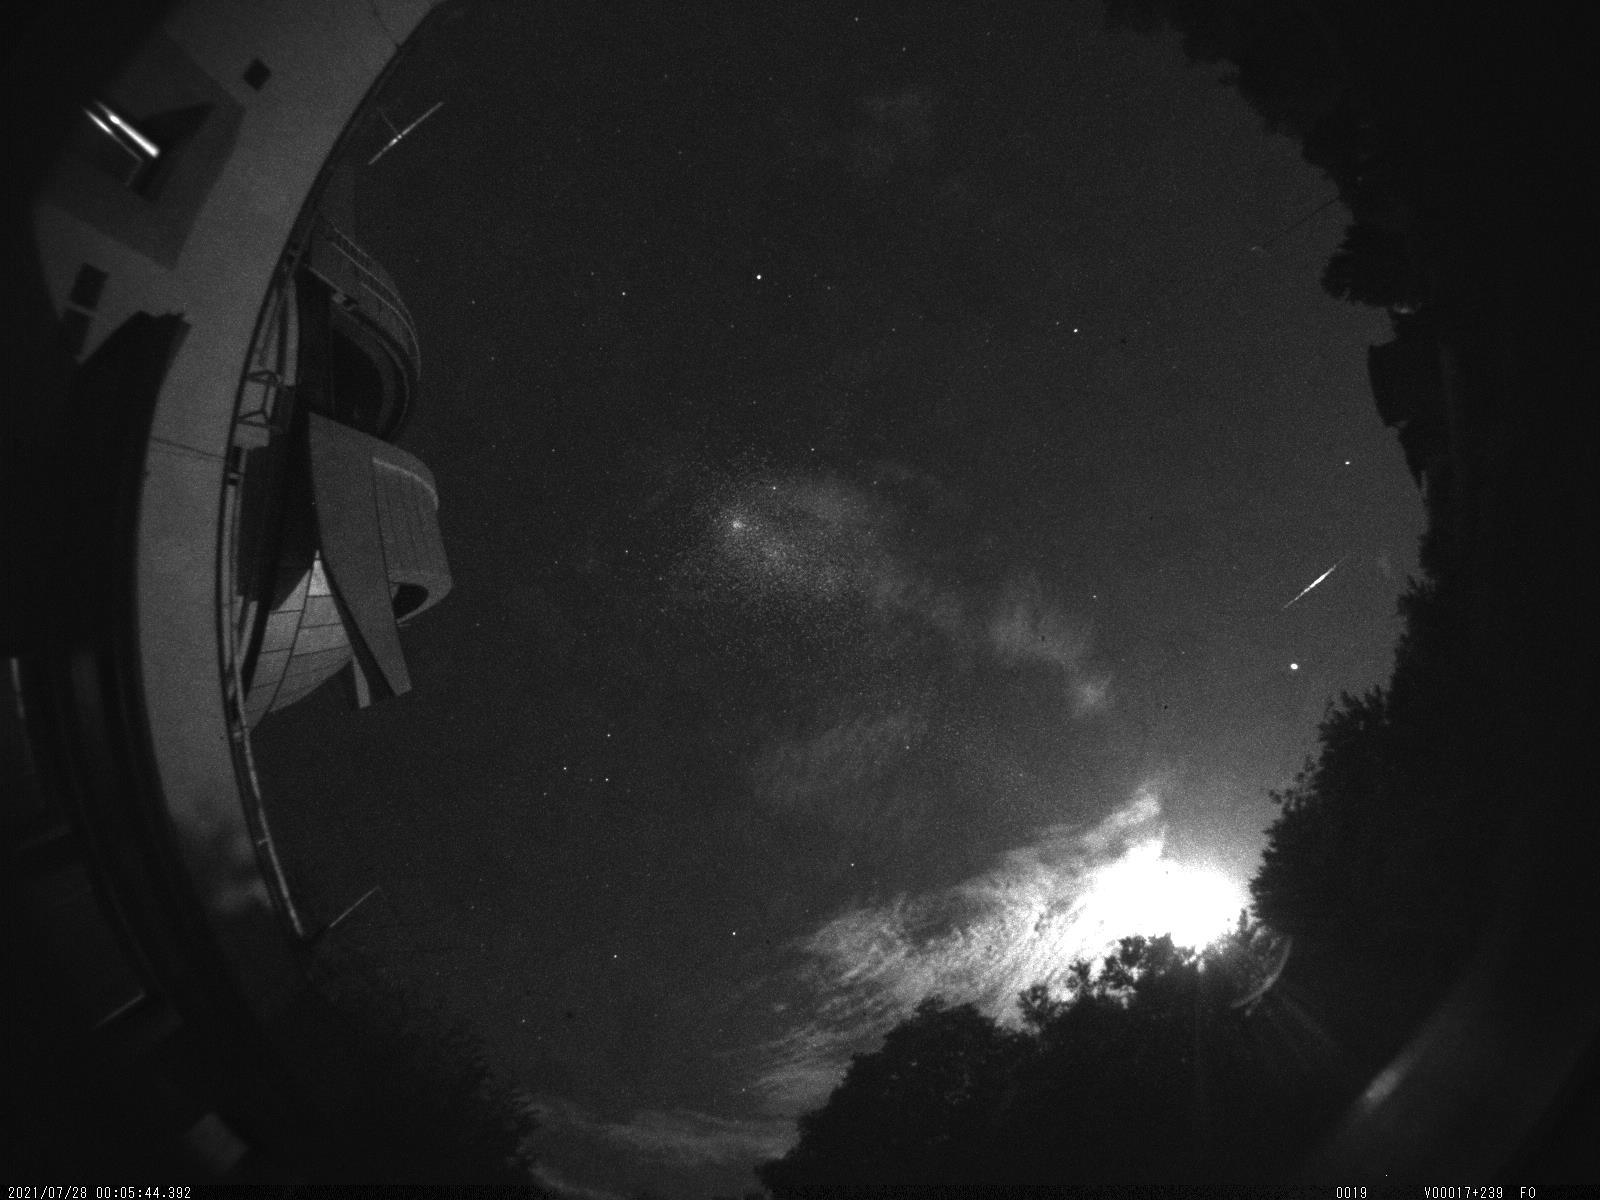Meteor: (1267, 547, 1362, 621)
